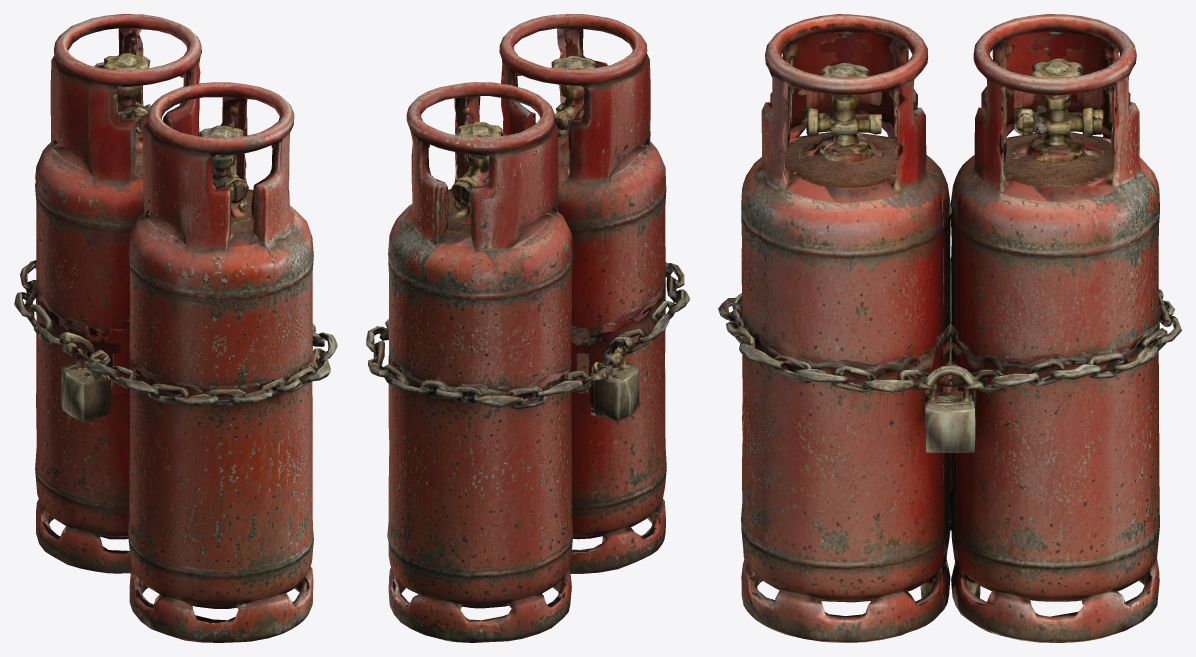
Rendered from GasCylinders.glb.
3 views of the same model, side by side, from view 1: azimuth 30°, elevation 25°; view 2: azimuth 150°, elevation 25°; view 3: azimuth 270°, elevation 25° (orthographic). The views are drawn at different scales.
Visible parts, largest first — view 1: texture_mapping; view 2: texture_mapping; view 3: texture_mapping.
Boxes of the visible parts, x1,y1,x2,y2 form: texture_mapping: (14, 14, 337, 642); texture_mapping: (366, 14, 689, 642); texture_mapping: (718, 14, 1181, 642).
Bounding box in the file's own units: 0.4645 × 1 × 0.7583.
1 material, 1 textured.
